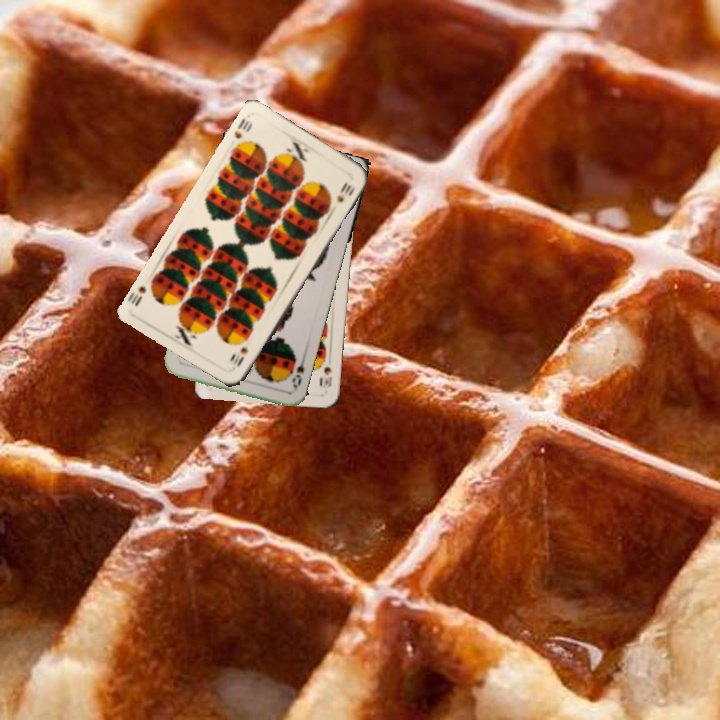S10: (317, 353, 335, 391), (230, 114, 255, 141), (229, 343, 251, 369)
SO: (288, 353, 308, 393)
